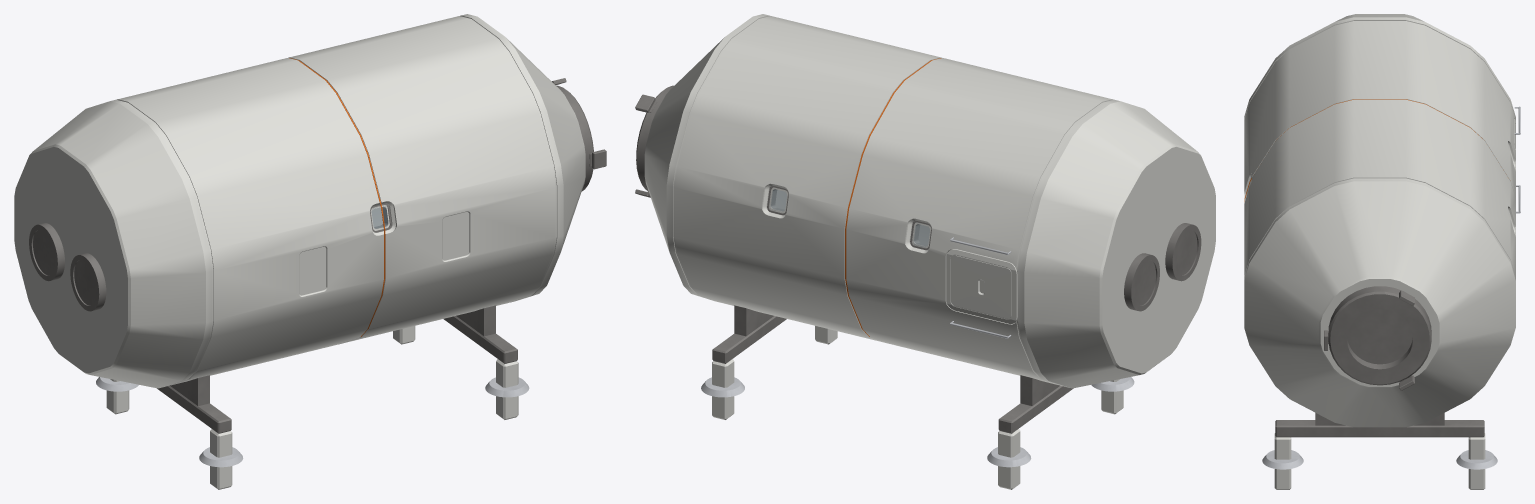
The model's file is ax_station_15_surface_hab.glb.
The picture shows the model from 3 angles, left to right: view 1: azimuth 30°, elevation 25°; view 2: azimuth 150°, elevation 25°; view 3: azimuth 270°, elevation 25°; orthographic projection. The views are drawn at different scales.
Visible parts, largest first — view 1: pressure_hull, leg_sleeves, leg_beams, suitport_rings, hull_saddles, suitport_hatches, port_top; view 2: pressure_hull, hatch_door_2, leg_sleeves, leg_beams, suitport_rings, hull_saddles, suitport_hatches, port_top, window_glass; view 3: pressure_hull, port_top, leg_beams, hatch_door_1, leg_sleeves, leg_4, leg_3, port_top_petals, hull_saddles.
Boxes of the visible parts, x1=… form: pressure_hull: x1=14, y1=14, x2=585, y2=388; leg_sleeves: x1=106, y1=326, x2=518, y2=489; leg_beams: x1=157, y1=316, x2=517, y2=433; suitport_rings: x1=29, y1=223, x2=106, y2=311; hull_saddles: x1=170, y1=305, x2=495, y2=405; suitport_hatches: x1=33, y1=230, x2=96, y2=305; port_top: x1=556, y1=85, x2=593, y2=191; pressure_hull: x1=644, y1=14, x2=1215, y2=388; hatch_door_2: x1=946, y1=249, x2=1017, y2=323; leg_sleeves: x1=712, y1=326, x2=1123, y2=489; leg_beams: x1=712, y1=316, x2=1073, y2=433; suitport_rings: x1=1124, y1=223, x2=1201, y2=311; hull_saddles: x1=734, y1=305, x2=1059, y2=405; suitport_hatches: x1=1134, y1=230, x2=1197, y2=305; port_top: x1=636, y1=85, x2=673, y2=191; window_glass: x1=770, y1=189, x2=929, y2=247; pressure_hull: x1=1244, y1=14, x2=1515, y2=427; port_top: x1=1328, y1=286, x2=1431, y2=385; leg_beams: x1=1275, y1=420, x2=1484, y2=437; hatch_door_1: x1=1347, y1=309, x2=1412, y2=364; leg_sleeves: x1=1274, y1=433, x2=1485, y2=489; leg_4: x1=1456, y1=450, x2=1497, y2=469; leg_3: x1=1262, y1=450, x2=1303, y2=469; port_top_petals: x1=1324, y1=290, x2=1414, y2=390; hull_saddles: x1=1315, y1=413, x2=1444, y2=425.
Size of the model in its own units: 8.6 by 5.5 by 4.28.
Materials: 5 (2 with a texture image).
